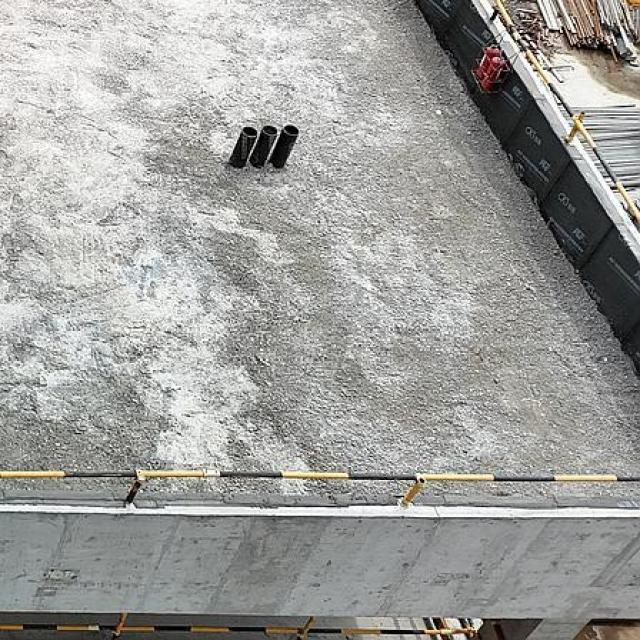edge_guardrail: (488, 0, 640, 225), (0, 469, 640, 506), (0, 613, 477, 640)
